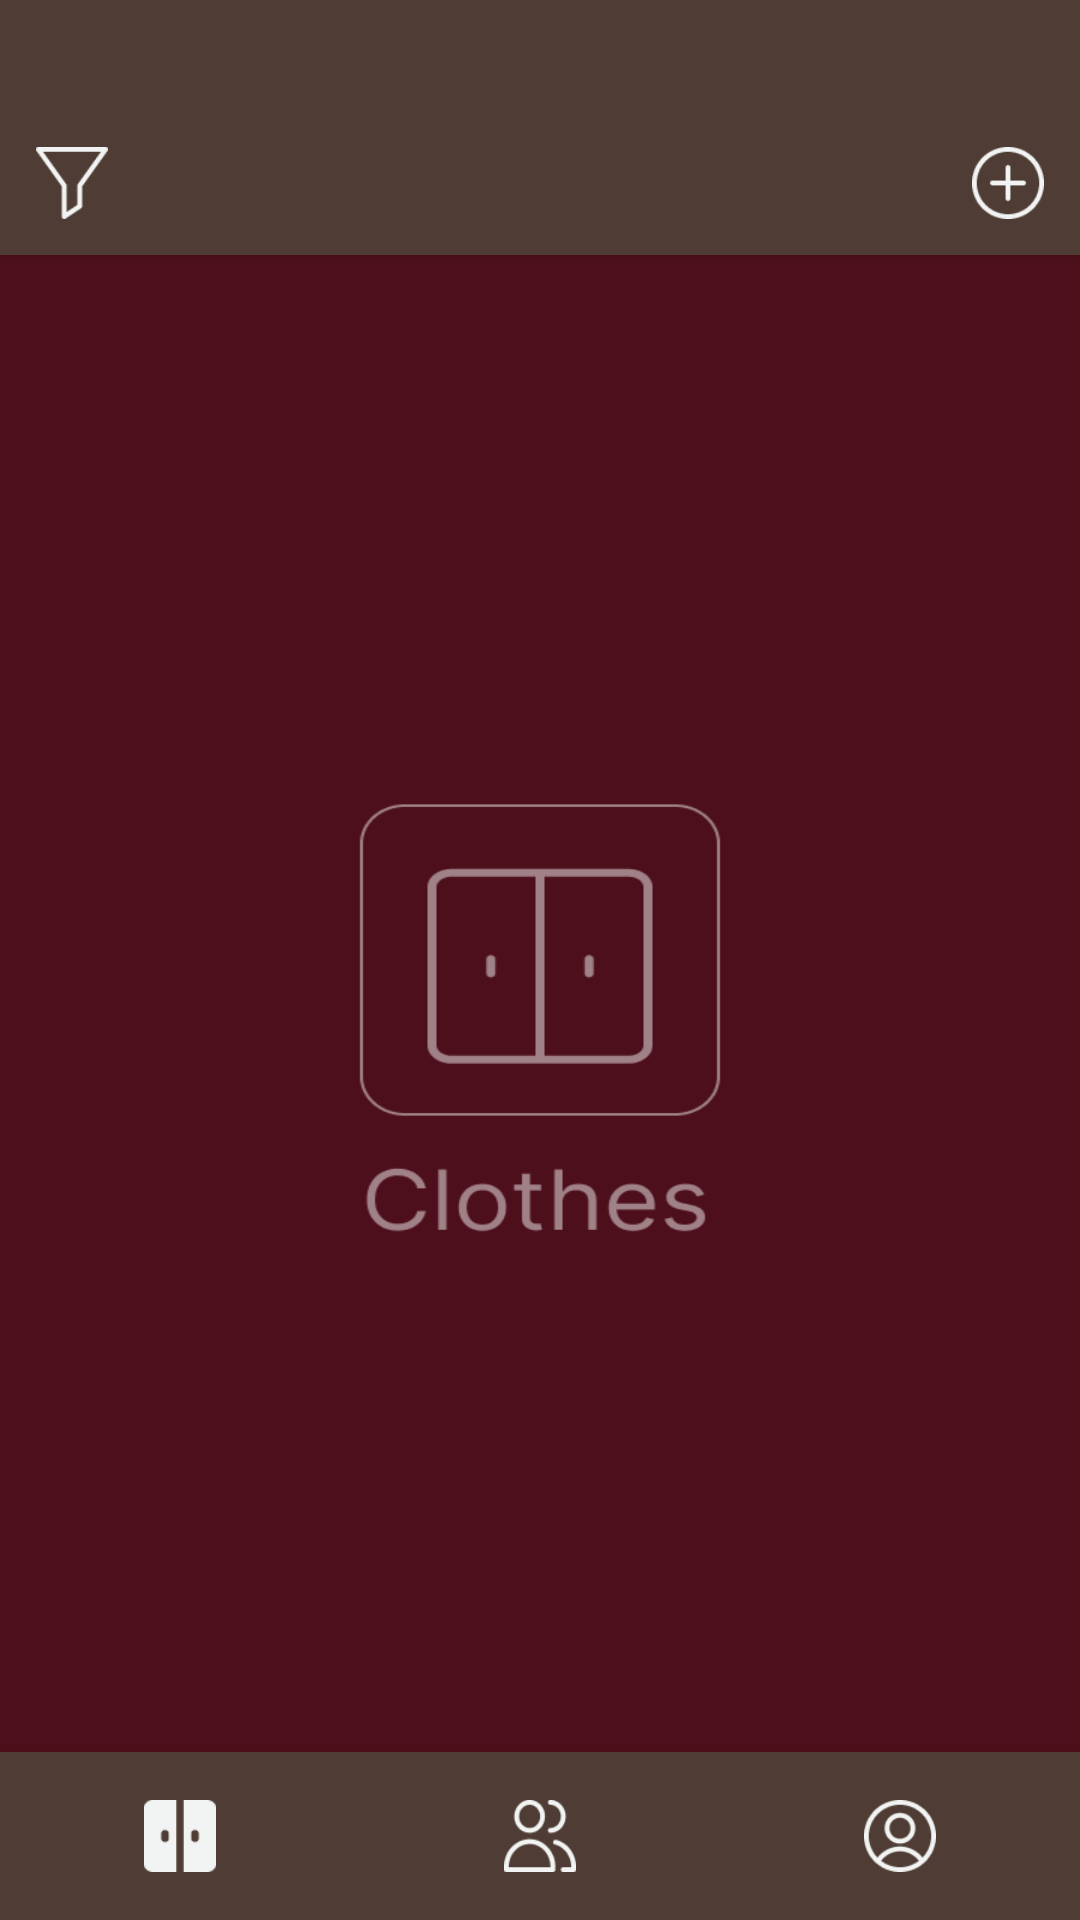

Where icons sit on this 1080px×1920px app screen, as (x1, y1, x2, y2):
Add: (972, 147, 1044, 219)
filter: (36, 147, 108, 219)
